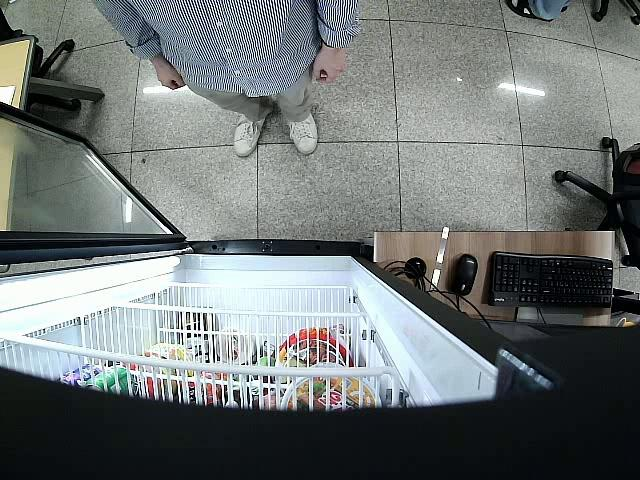00_hand: (310, 48, 348, 85), (155, 58, 185, 90)
